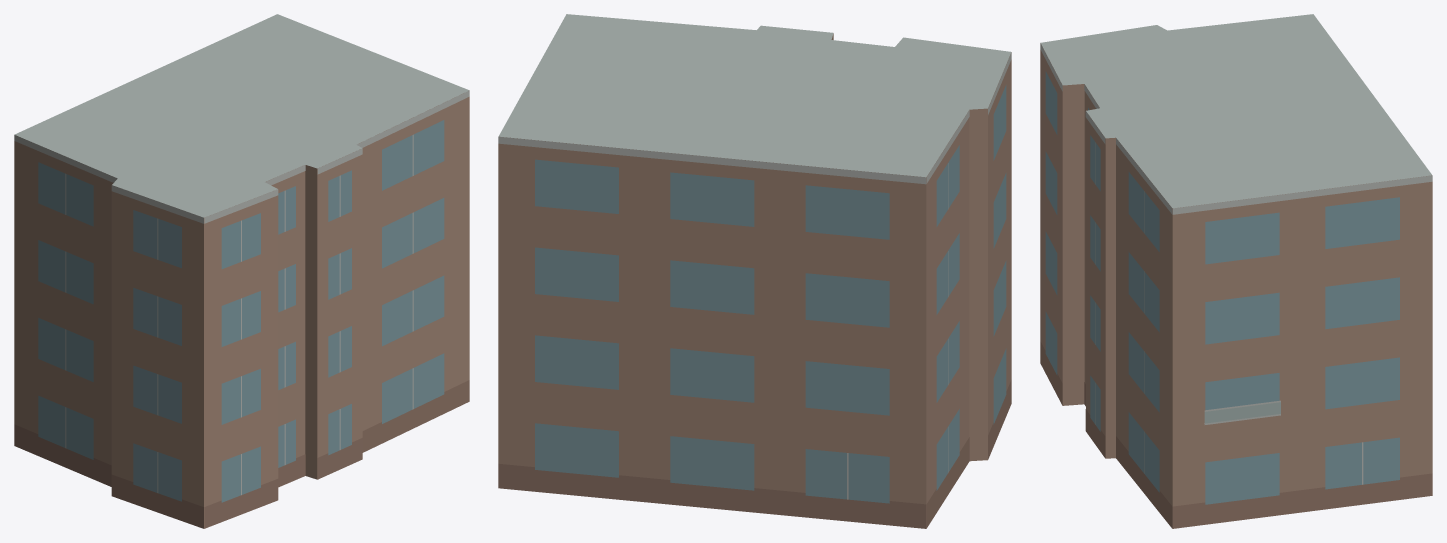
The model's file is survey-upis-32561045.glb.
3 views of the same model, side by side, from view 1: azimuth 30°, elevation 25°; view 2: azimuth 150°, elevation 25°; view 3: azimuth 270°, elevation 25° (orthographic). The views are drawn at different scales.
Parts seen in each view (by area): view 1: survey-upis-32561045.tmp; view 2: survey-upis-32561045.tmp; view 3: survey-upis-32561045.tmp.
Part boxes in pixels (left/top/right/bottom): survey-upis-32561045.tmp: left=14, top=14, right=469, bottom=528; survey-upis-32561045.tmp: left=498, top=14, right=1011, bottom=528; survey-upis-32561045.tmp: left=1040, top=14, right=1432, bottom=528.
Size of the model in its own units: 15.89 by 12.2 by 13.54.
